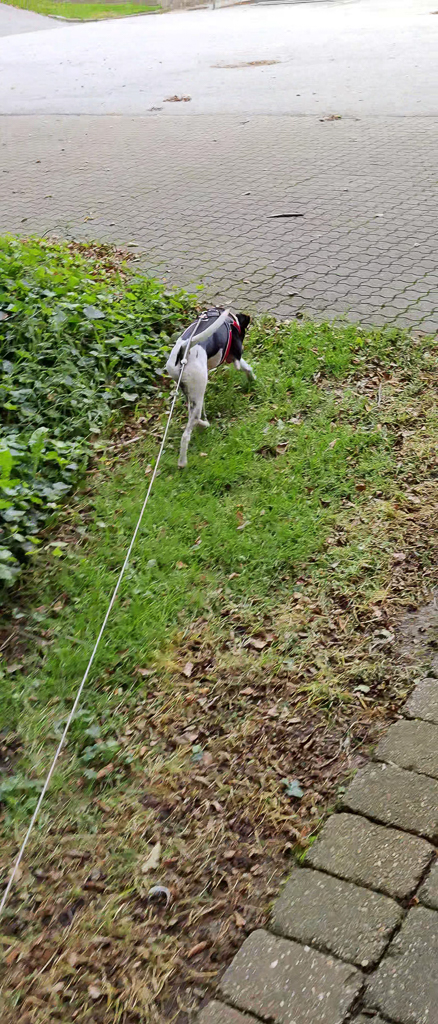Dog: (152, 300, 267, 472)
